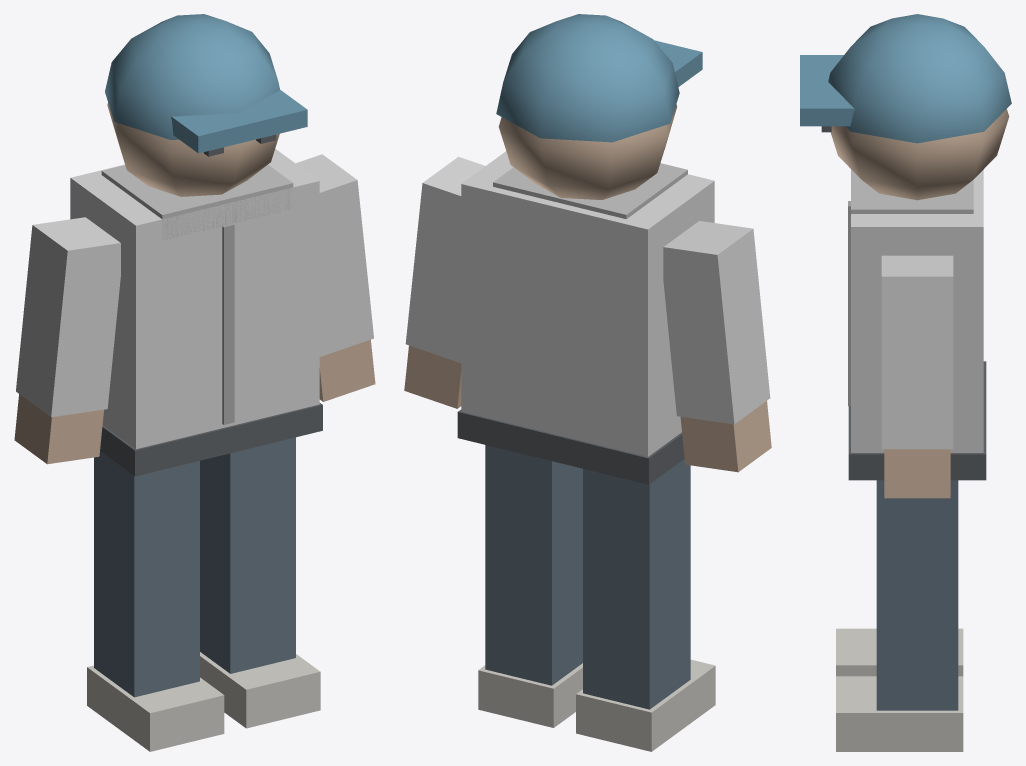
Rendered from walker_0.glb.
3 renders of one model, left to right at view 1: azimuth 30°, elevation 25°; view 2: azimuth 150°, elevation 25°; view 3: azimuth 270°, elevation 25°, orthographic.
Parts seen in each view (by area): view 1: walker_0; view 2: walker_0; view 3: walker_0.
Boxes of the visible parts, bbox=[...] form: walker_0: bbox=[14, 14, 375, 751]; walker_0: bbox=[404, 14, 771, 751]; walker_0: bbox=[800, 14, 1011, 751].
Bounding box in the file's own units: 0.7512 × 1.49 × 0.415.
